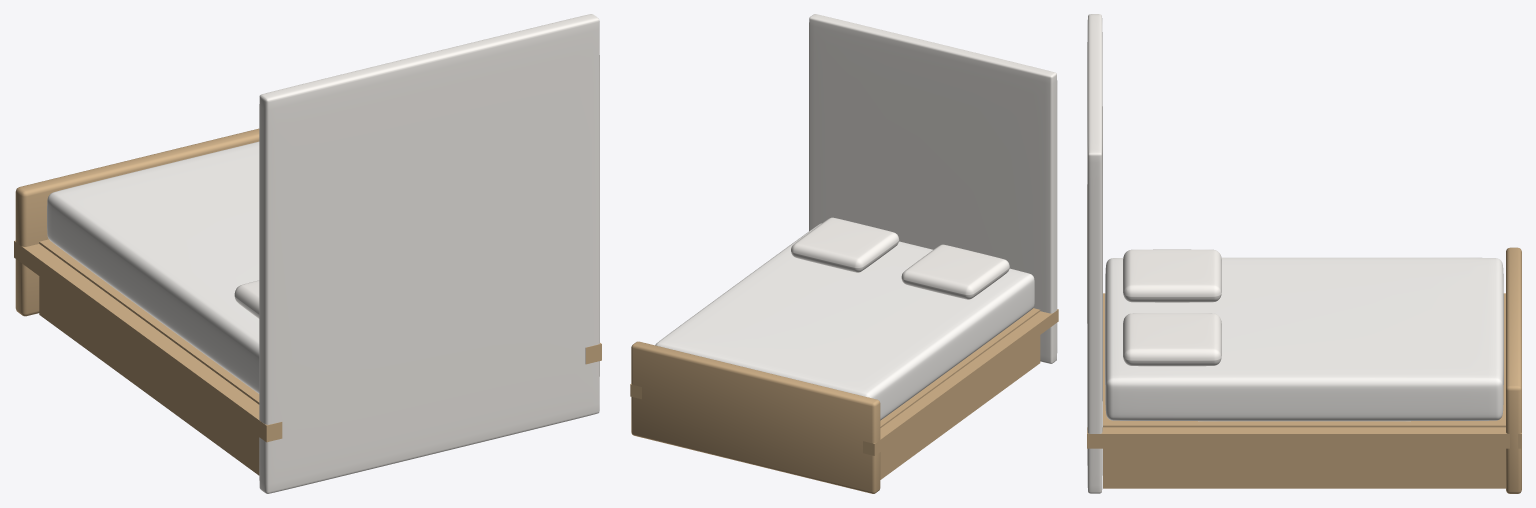
3 views of the same model, side by side, from view 1: azimuth 30°, elevation 25°; view 2: azimuth 150°, elevation 25°; view 3: azimuth 270°, elevation 25° (orthographic). The views are drawn at different scales.
Parts seen in each view (by area): view 1: Headboard, Mattress, BedFrame, Footboard, Pillow; view 2: Headboard, Mattress, Footboard, BedFrame, Pillow, Pillow.001; view 3: Mattress, BedFrame, Headboard, Pillow, Pillow.001, Footboard.
Part boxes in pixels (box(x1,y1,x2,y2)): Headboard: box(259, 14, 599, 493); Mattress: box(47, 141, 259, 393); BedFrame: box(14, 239, 601, 475); Footboard: box(15, 128, 259, 316); Pillow: box(234, 280, 259, 318); Headboard: box(809, 14, 1057, 363); Mattress: box(655, 223, 1034, 420); Footboard: box(631, 341, 880, 493); BedFrame: box(630, 308, 1058, 479); Pillow: box(901, 244, 1009, 299); Pillow.001: box(791, 217, 899, 272); Mattress: box(1105, 257, 1503, 421); BedFrame: box(1087, 293, 1521, 488); Headboard: box(1087, 14, 1102, 493); Pillow: box(1123, 249, 1221, 302); Pillow.001: box(1123, 313, 1221, 366); Footboard: box(1506, 247, 1521, 493).
Size of the model in its own units: 1.68 by 1.9 by 2.19.
